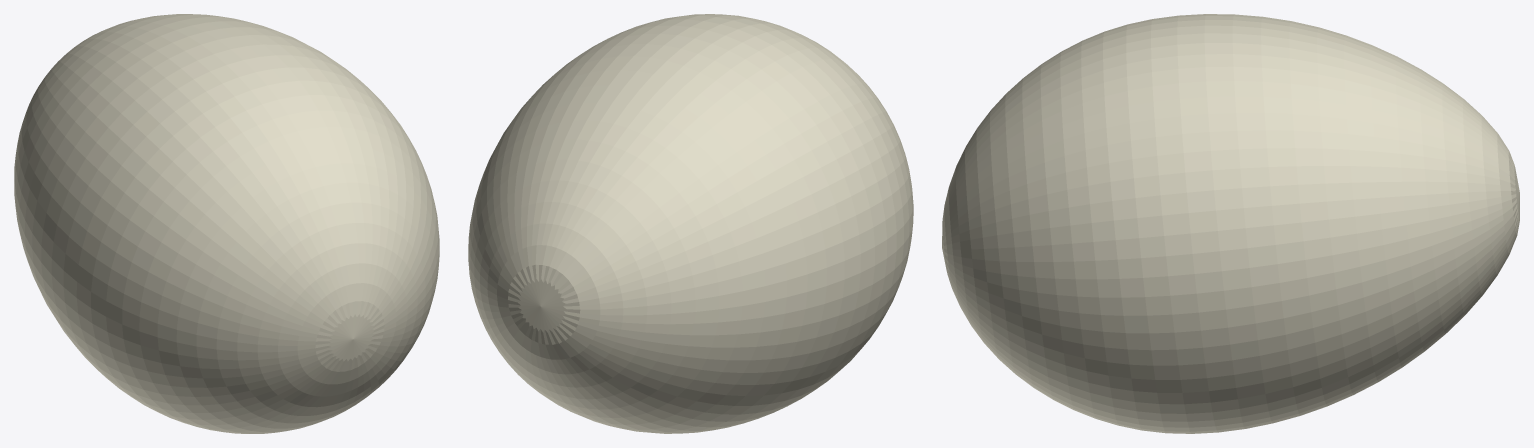
File: egg.fbx
3 renders of one model, left to right at view 1: azimuth 30°, elevation 25°; view 2: azimuth 150°, elevation 25°; view 3: azimuth 270°, elevation 25°, orthographic. The views are drawn at different scales.
Parts seen in each view (by area): view 1: Sphere; view 2: Sphere; view 3: Sphere.
Boxes of the visible parts, x1,y1,x2,y2 form: Sphere: [14, 14, 439, 433]; Sphere: [468, 14, 913, 433]; Sphere: [942, 14, 1519, 433].
Bounding box in the file's own units: 38.42 × 38.54 × 52.97.
